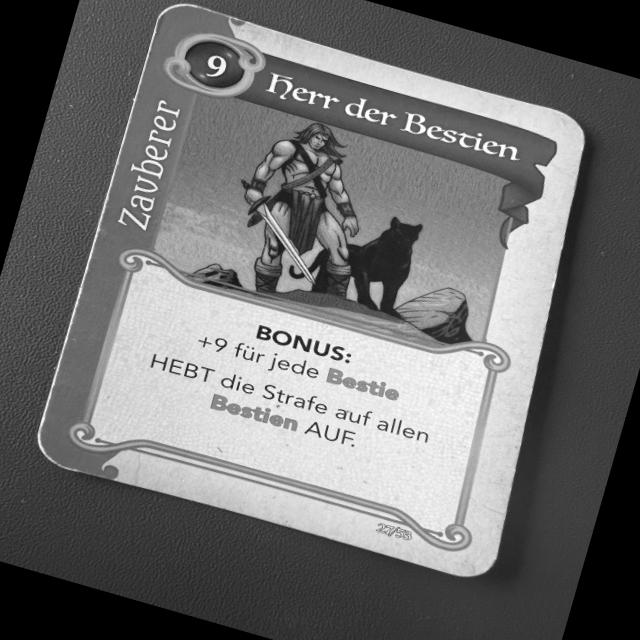Beast Master: (25, 0, 592, 589)
